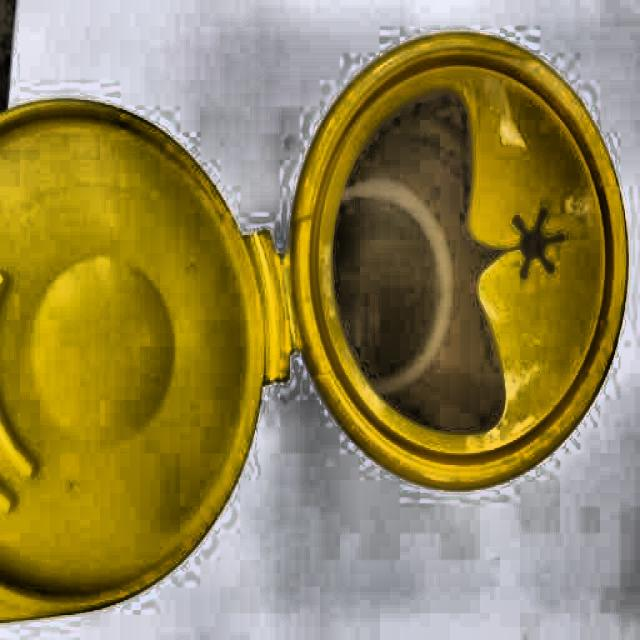plastic: (292, 32, 629, 497), (0, 105, 275, 604)
